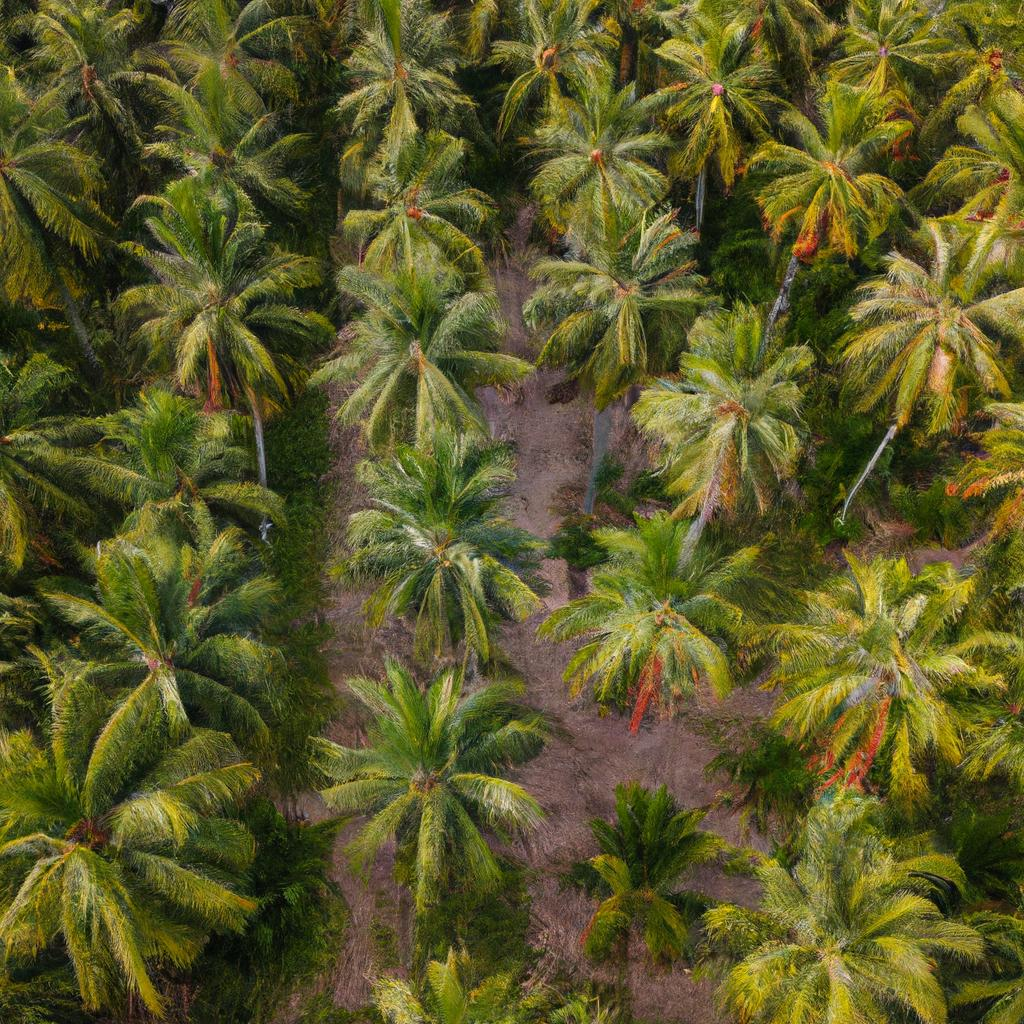coconut_tree: (0, 701, 258, 986), (710, 785, 1008, 1023), (305, 655, 573, 914), (773, 551, 1023, 808), (43, 515, 323, 716), (338, 426, 570, 648), (566, 491, 771, 728), (102, 199, 334, 395), (606, 327, 839, 506), (819, 234, 1023, 432), (329, 261, 538, 439), (518, 197, 751, 356), (504, 104, 699, 239), (732, 106, 916, 238), (332, 145, 529, 262), (138, 70, 315, 197), (646, 39, 807, 143), (331, 18, 465, 134)
